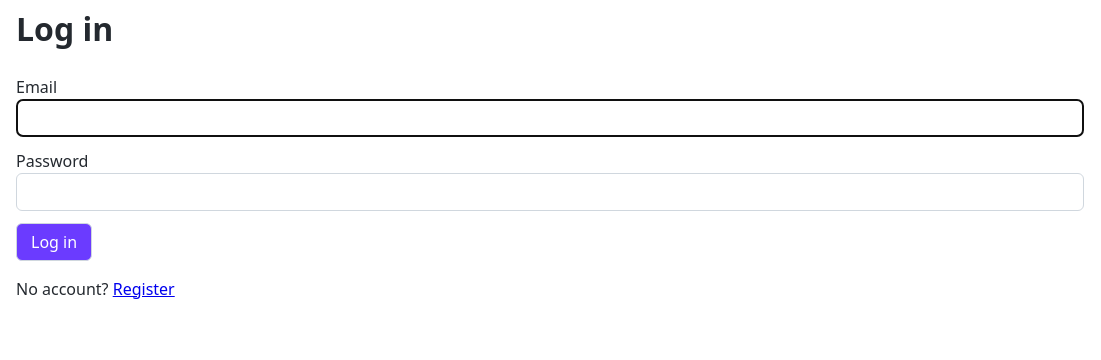
Test: LoginPage › shows the backend error message on failed login (SR-1: same message for unknown email or wrong password)
This screenshot has width=1101, height=360.
Type "alice@example.com" into the field labelled "Email" at point(550, 118), box [16,99,1084,137]
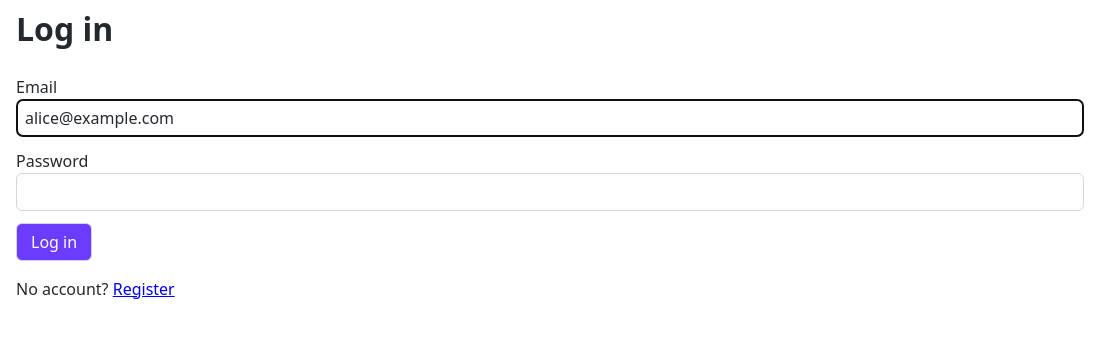
Type "wrong" into the password field labelled "Password" at point(550, 192), box [16,173,1084,211]
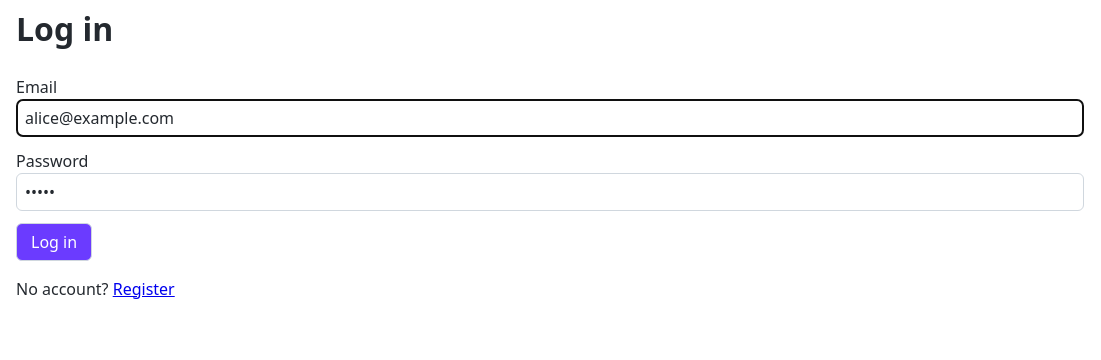
Click the button "Log in" at point(54, 242), box [16,223,92,261]
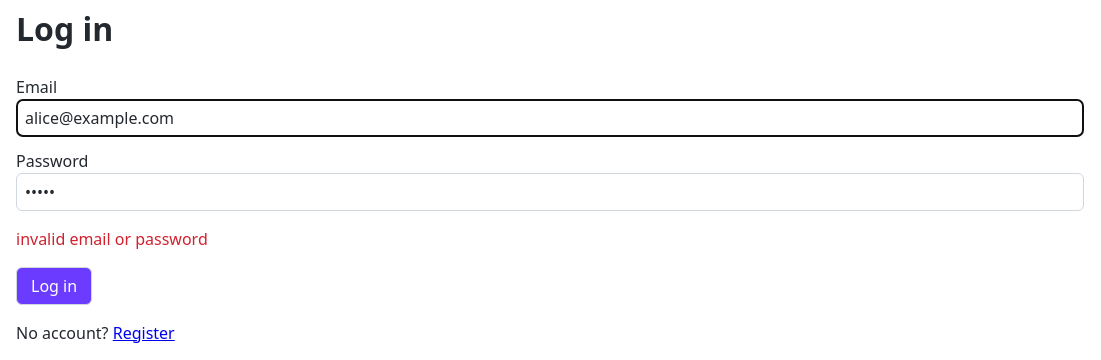
Now the message reads "invalid email or password", box [16,228,208,250]
